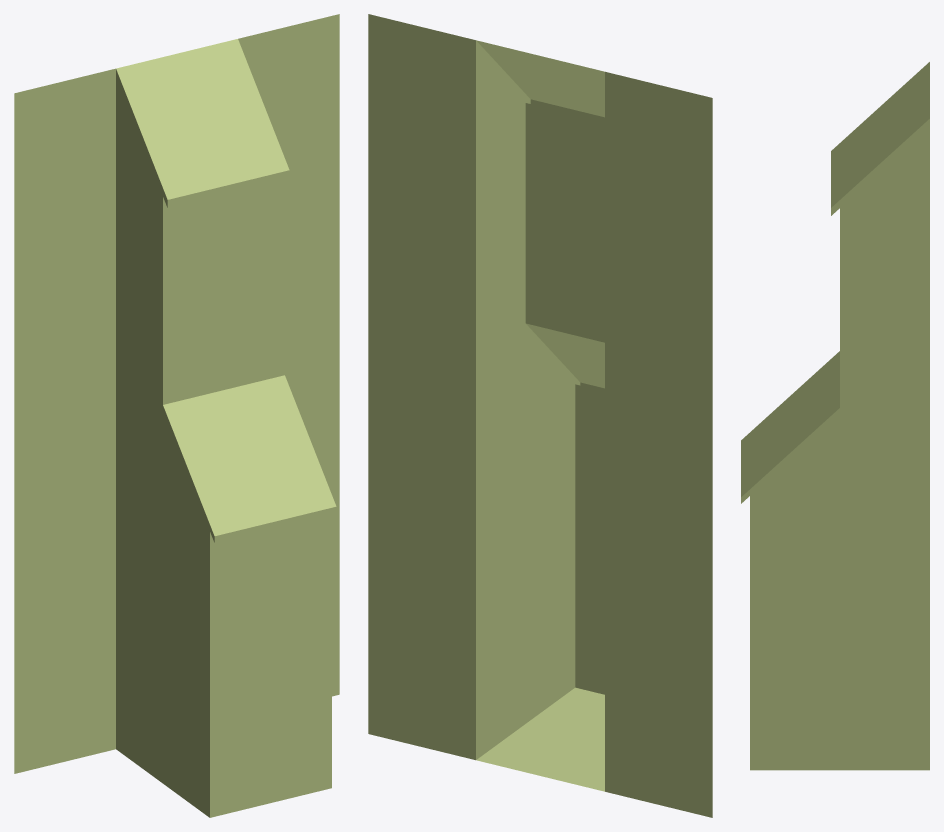
File: Historic_Beam_2.0x4.0.obj
3 views of the same model, side by side, from view 1: azimuth 30°, elevation 25°; view 2: azimuth 150°, elevation 25°; view 3: azimuth 270°, elevation 25° (orthographic). The views are drawn at different scales.
Visible parts, largest first — view 1: Historic_Beam_2.0x4.0; view 2: Historic_Beam_2.0x4.0; view 3: Historic_Beam_2.0x4.0.
Part boxes in pixels (x1,y1,x2,y2): Historic_Beam_2.0x4.0: [14, 14, 339, 817]; Historic_Beam_2.0x4.0: [368, 14, 712, 817]; Historic_Beam_2.0x4.0: [741, 62, 929, 770].
Bounding box in the file's own units: 2 × 4 × 1.05.
